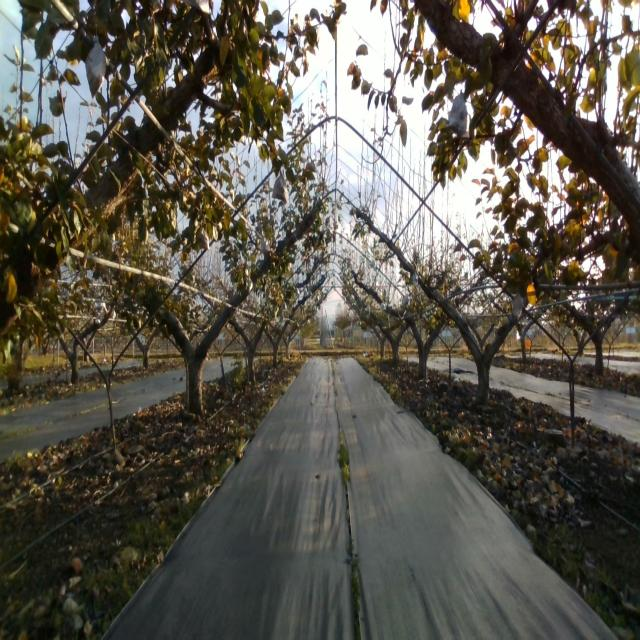pearbags: (85, 34, 107, 99), (445, 90, 470, 138), (271, 168, 288, 205), (511, 292, 524, 320), (195, 226, 210, 250)
